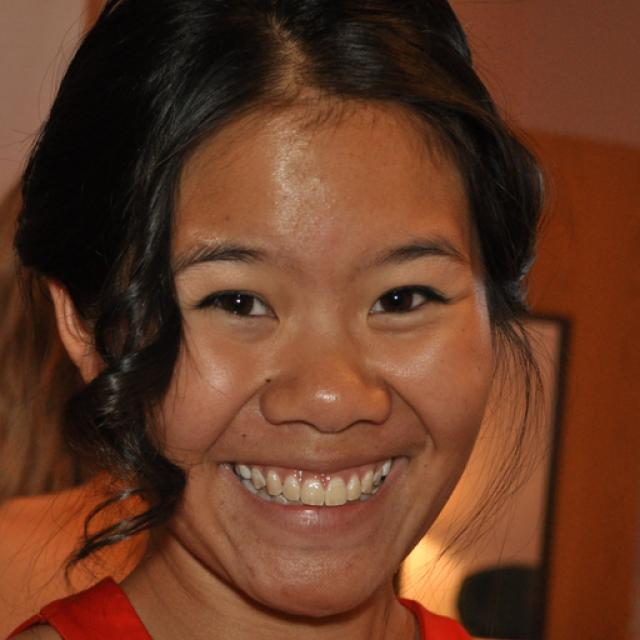happy: (166, 108, 499, 612)
